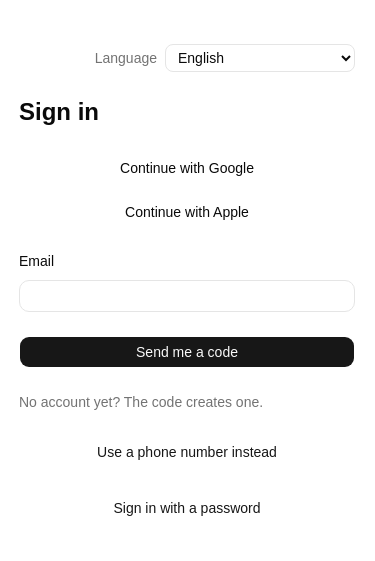
signing in with a code on the web › goes on to the code when one was sent moments ago, counting down to the next
Type "ana@example.com" into the field labelled "Email" at (187, 296), box [19, 280, 355, 312]
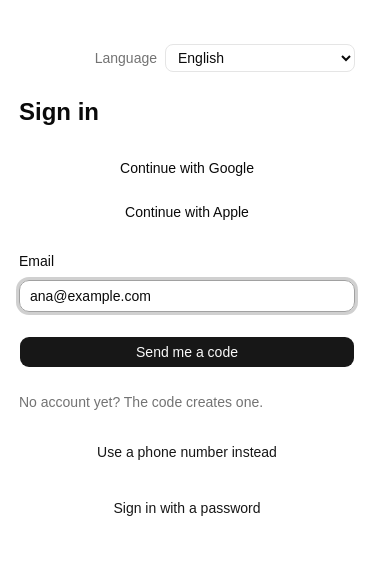
Click the button "Send me a code" at (187, 352), box [19, 336, 355, 368]
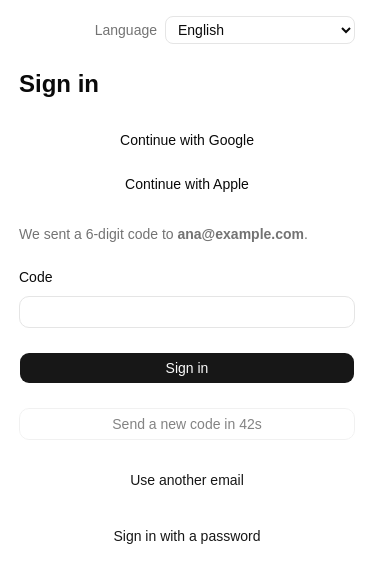
expect the field labelled "Code" is shown: met, box [19, 296, 355, 328]
